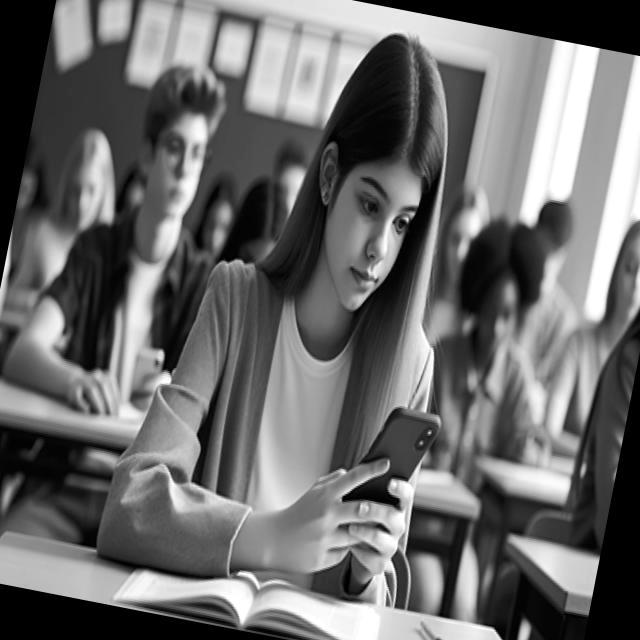phone: (341, 396, 445, 520), (129, 343, 167, 401)
